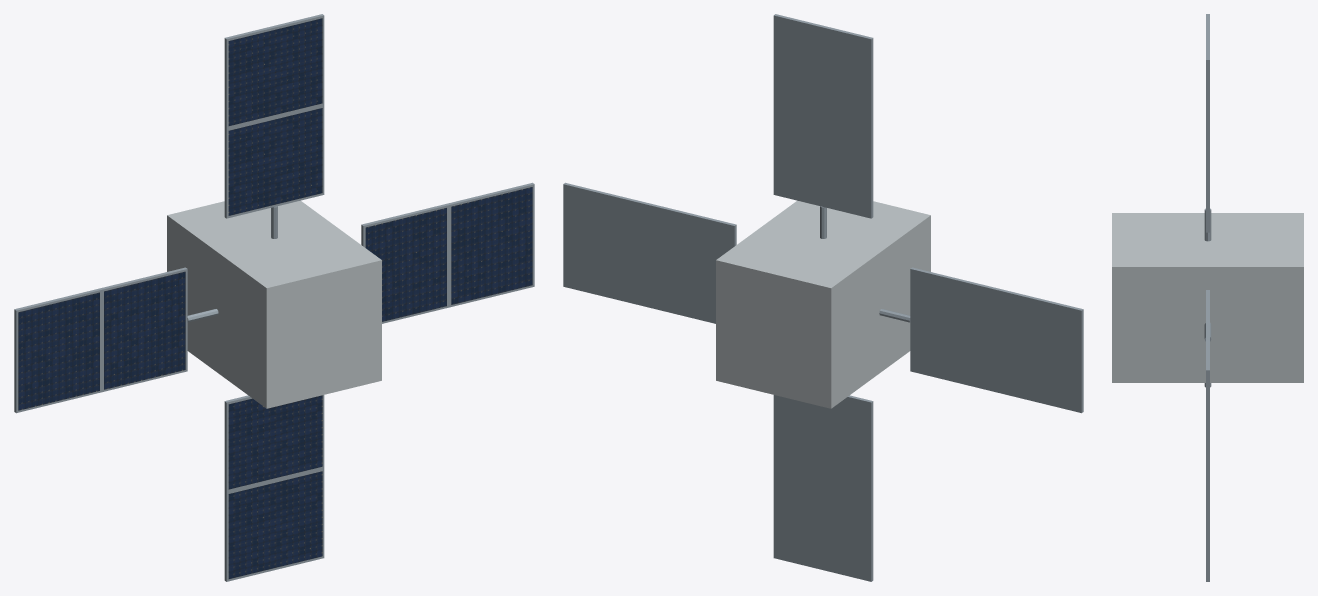
Rendered from ref-astro-c-17480.glb.
3 views of the same model, side by side, from view 1: azimuth 30°, elevation 25°; view 2: azimuth 150°, elevation 25°; view 3: azimuth 270°, elevation 25° (orthographic). The views are drawn at different scales.
Visible parts, largest first — view 1: Photovoltaic laminates (×8), Spacecraft body, Array frame (×8); view 2: Array frame (×8), Spacecraft body; view 3: Spacecraft body, Array frame (×4).
Boxes of the visible parts, x1,y1,x2,y2 form: Photovoltaic laminates (×8): (18,18,532,578); Spacecraft body: (167,200,381,408); Array frame (×8): (14,14,534,581); Array frame (×8): (563,14,1083,581); Spacecraft body: (716,200,930,408); Spacecraft body: (1112,213,1303,382); Array frame (×4): (1206,14,1209,581).
Size of the model in its own units: 4.5 by 4.5 by 1.5.
Materials: 3 (1 with a texture image).
